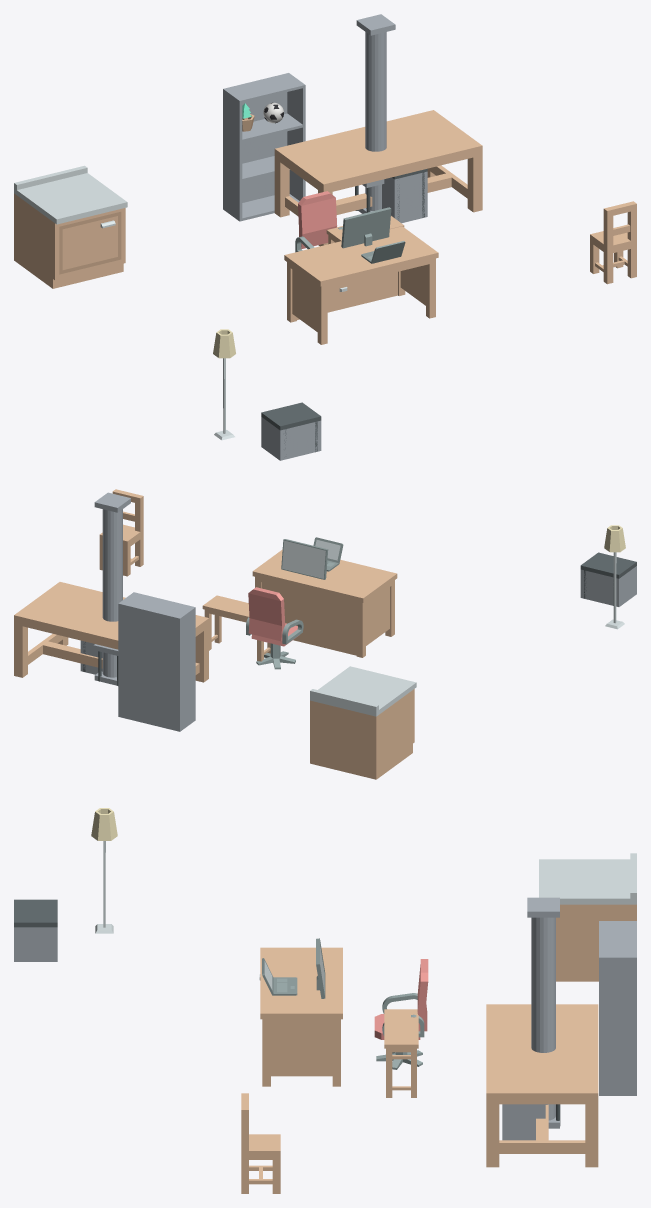
3 views of the same model, one above another, from view 1: azimuth 30°, elevation 25°; view 2: azimuth 150°, elevation 25°; view 3: azimuth 270°, elevation 25° (orthographic). The views are drawn at different scales.
Parts seen in each view (by area): view 1: table_green__table(Clone), desk_blue__desk(Clone), cabinet_blue__kitchenCabinet(Clone), cabinet_blue__door, column_cyan__column_cyan shaft, chair_cyan__chair(Clone), shelf_orange__shelf_orange side_l, shelf_orange__shelf_orange back, deskchair_black__chair, bin_gray__bin_gray shell, crate_red__crate_red shell, monitor_gray__computerScreen(Clone) (+6 smaller); view 2: cabinet_blue__kitchenCabinet(Clone), desk_blue__desk(Clone), table_green__table(Clone), shelf_orange__shelf_orange back, column_cyan__column_cyan shaft, deskchair_black__chair, shelf_orange__shelf_orange side_l, crate_red__crate_red shell, chair_cyan__chair(Clone), monitor_gray__computerScreen(Clone), sidetable_brown__sideTable(Clone), lamp_white__lampRoundFloor(Clone) (+5 smaller); view 3: table_green__table(Clone), desk_blue__desk(Clone), cabinet_blue__kitchenCabinet(Clone), shelf_orange__shelf_orange side_r, column_cyan__column_cyan shaft, sidetable_brown__sideTable(Clone), chair_cyan__chair(Clone), crate_red__crate_red shell, bin_gray__bin_gray shell, deskchair_black__chair, shelf_orange__shelf_orange board3, crate_red__crate_red lid (+3 smaller).
Part boxes in pixels (x1,y1,x2,y2): table_green__table(Clone): (274, 110, 482, 246); desk_blue__desk(Clone): (284, 226, 438, 344); cabinet_blue__kitchenCabinet(Clone): (14, 165, 127, 288); cabinet_blue__door: (59, 211, 121, 274); column_cyan__column_cyan shaft: (365, 32, 386, 210); chair_cyan__chair(Clone): (590, 201, 636, 284); shelf_orange__shelf_orange side_l: (223, 88, 242, 221); shelf_orange__shelf_orange back: (226, 73, 287, 202); deskchair_black__chair: (295, 191, 342, 252); bin_gray__bin_gray shell: (382, 171, 427, 223); crate_red__crate_red shell: (261, 417, 321, 460); monitor_gray__computerScreen(Clone): (341, 207, 391, 248); cabinet_blue__kitchenCabinet(Clone): (310, 666, 416, 779); desk_blue__desk(Clone): (252, 549, 397, 657); table_green__table(Clone): (14, 582, 208, 682); shelf_orange__shelf_orange back: (120, 603, 178, 731); column_cyan__column_cyan shaft: (102, 509, 122, 677); deskchair_black__chair: (246, 587, 303, 646); shelf_orange__shelf_orange side_l: (177, 606, 195, 731); crate_red__crate_red shell: (580, 566, 636, 606); chair_cyan__chair(Clone): (99, 489, 143, 576); monitor_gray__computerScreen(Clone): (281, 539, 328, 579); sidetable_brown__sideTable(Clone): (202, 595, 270, 661); lamp_white__lampRoundFloor(Clone): (604, 525, 625, 629); table_green__table(Clone): (486, 1004, 598, 1167); desk_blue__desk(Clone): (260, 947, 342, 1086); cabinet_blue__kitchenCabinet(Clone): (539, 853, 636, 981); shelf_orange__shelf_orange side_r: (599, 956, 636, 1095); column_cyan__column_cyan shaft: (531, 917, 555, 1120); sidetable_brown__sideTable(Clone): (384, 1009, 418, 1097); chair_cyan__chair(Clone): (241, 1093, 280, 1193); crate_red__crate_red shell: (14, 927, 57, 961); bin_gray__bin_gray shell: (502, 1104, 545, 1140); deskchair_black__chair: (374, 959, 428, 1039); shelf_orange__shelf_orange board3: (599, 922, 634, 956); crate_red__crate_red lid: (14, 899, 57, 927).
Bounding box in the file's own units: 5.84 × 2.2 × 5.72.
